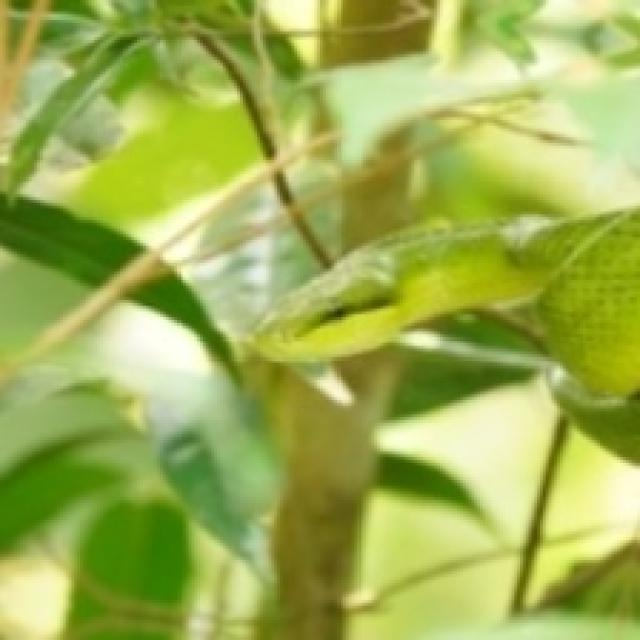red-tailed green ratsnake: (255, 209, 640, 462)
